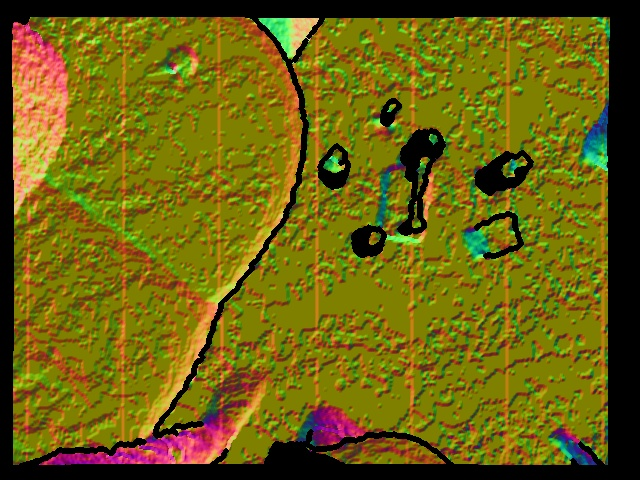station: (374, 154, 443, 246)
